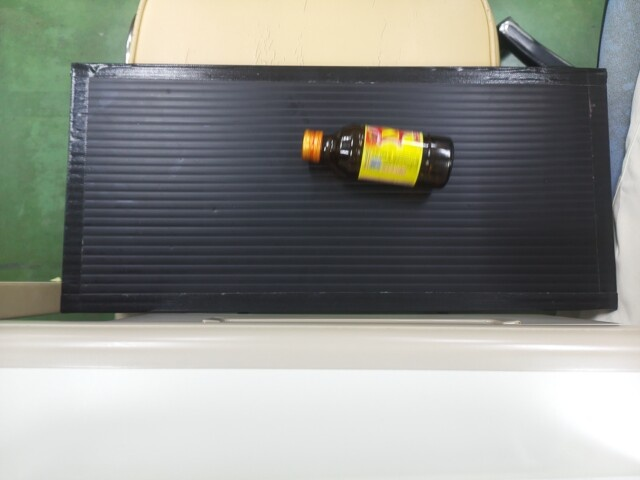glass_bottle: (302, 120, 451, 190)
